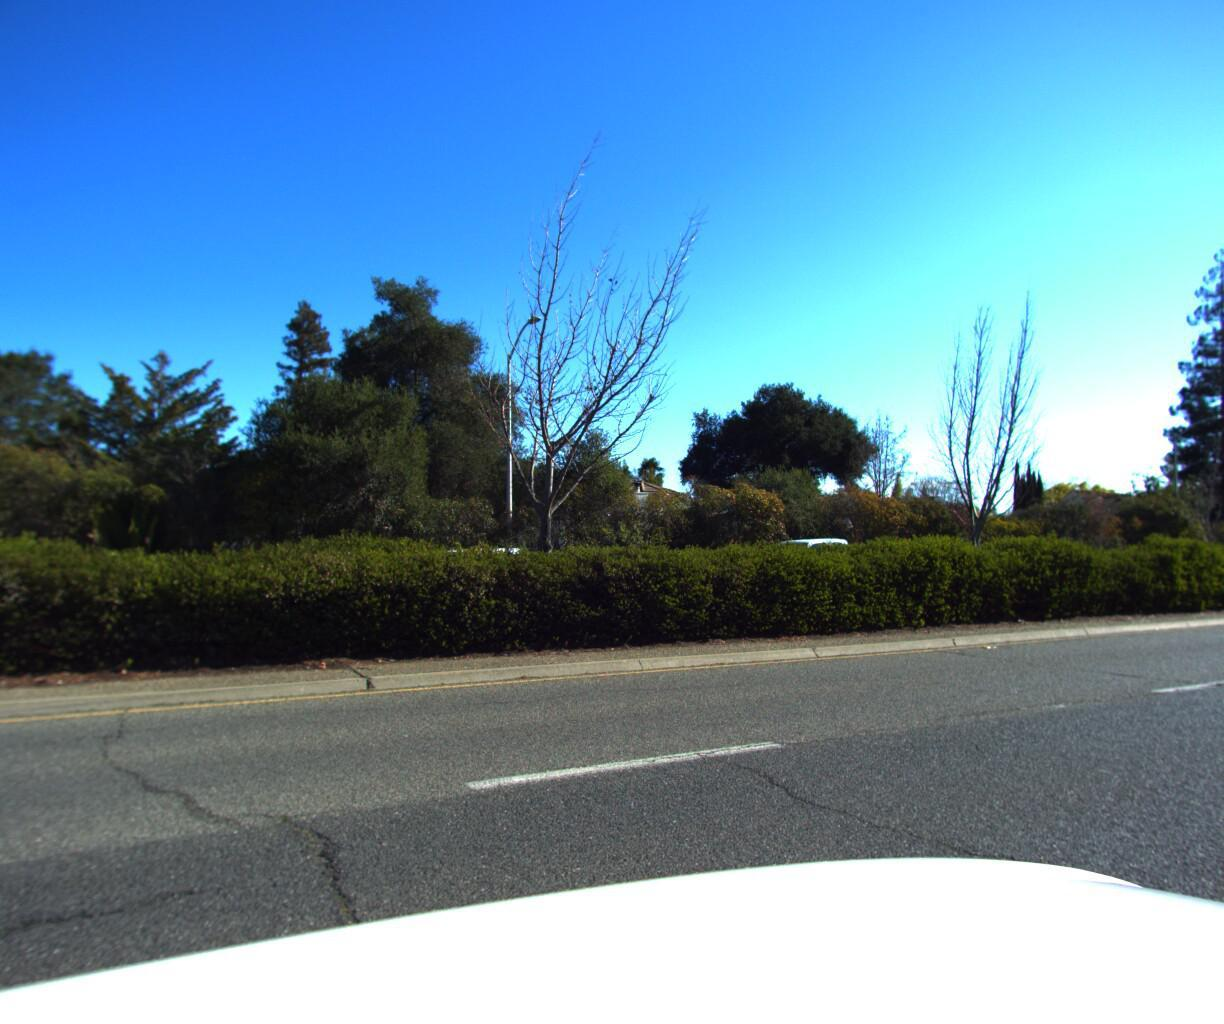car: (720, 535, 894, 600), (408, 542, 563, 603)
